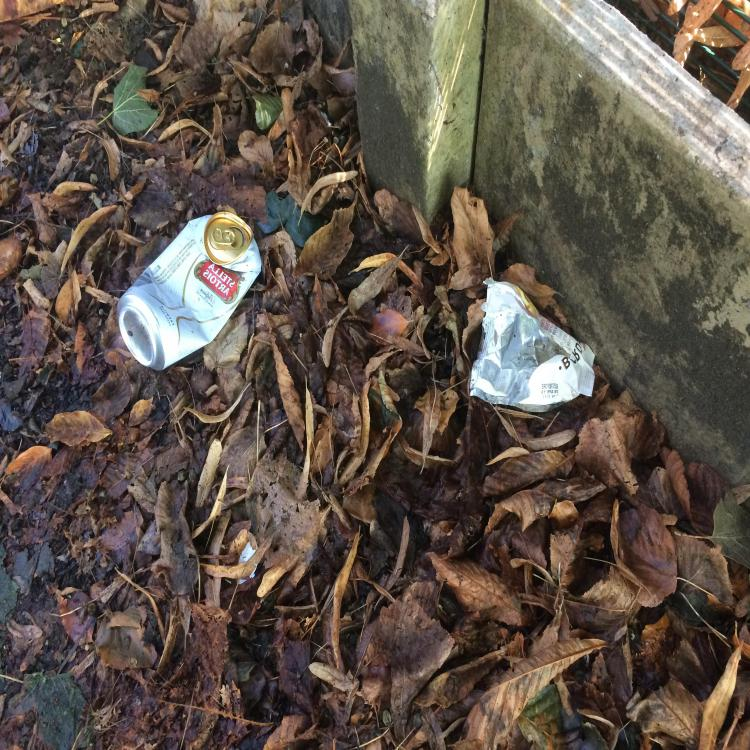Drink can: (117, 212, 261, 370)
Other plastic: (470, 277, 595, 412)
Pop tab: (211, 227, 236, 245)
